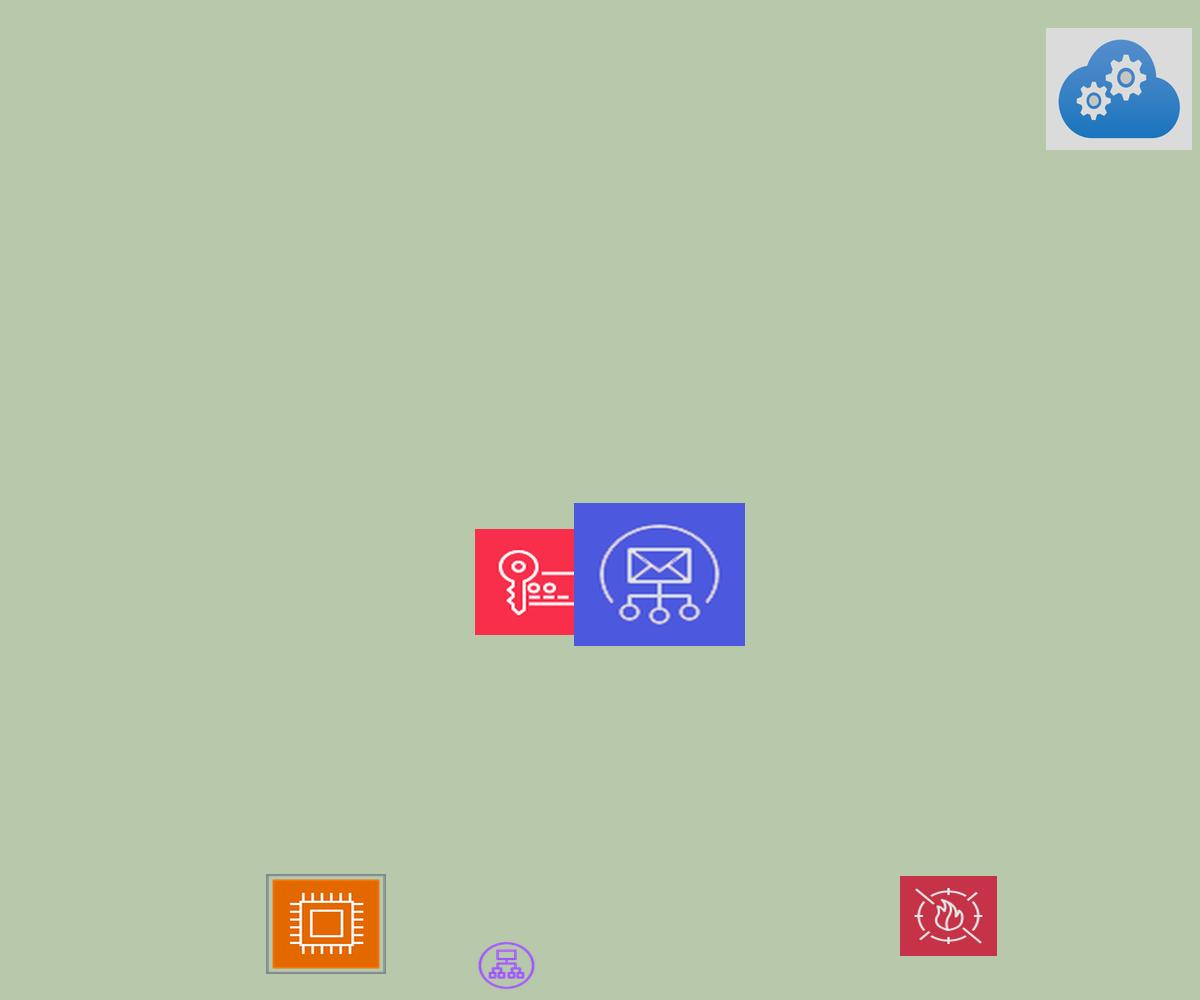AWS-Category_Compute: (266, 874, 386, 974)
AWS-Key-Management-Service: (475, 529, 602, 635)
AWS-Res_Elastic-Load-Balancing_Application-Load-Balancer: (476, 940, 537, 991)
AWS-Simple-Email-Service: (574, 503, 745, 646)
AWS-WAF: (900, 876, 997, 956)
Azure_cloud_services: (1046, 28, 1192, 150)
